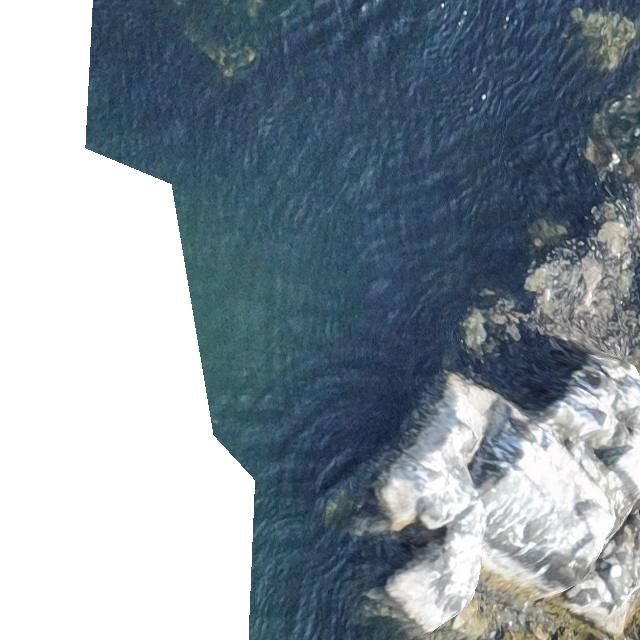umineko: (605, 561, 629, 609), (588, 399, 613, 429)
